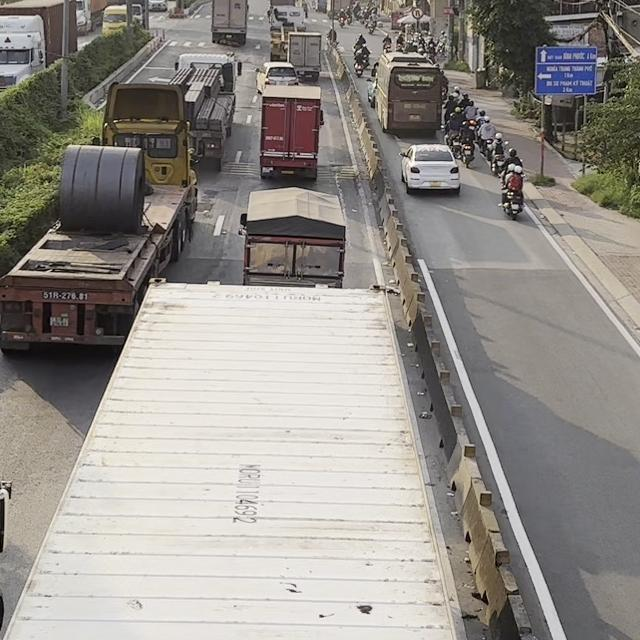bus: (372, 51, 444, 133)
car: (398, 143, 461, 193), (253, 61, 301, 94)
motorcycle: (498, 173, 525, 220), (486, 139, 509, 174), (460, 141, 476, 168)
truck: (0, 80, 202, 357), (239, 186, 346, 288), (168, 52, 242, 170), (258, 84, 324, 180), (286, 30, 323, 82), (210, 0, 249, 46)
